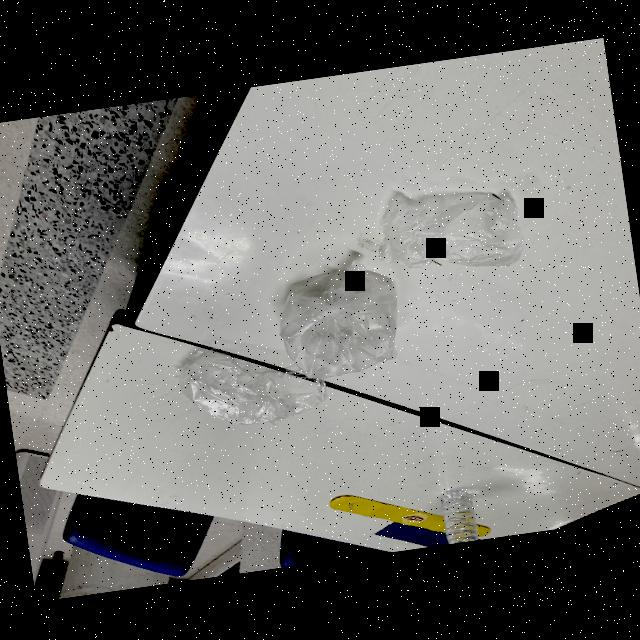plastic_bag: (364, 172, 531, 287), (270, 254, 412, 386), (171, 336, 332, 434)
